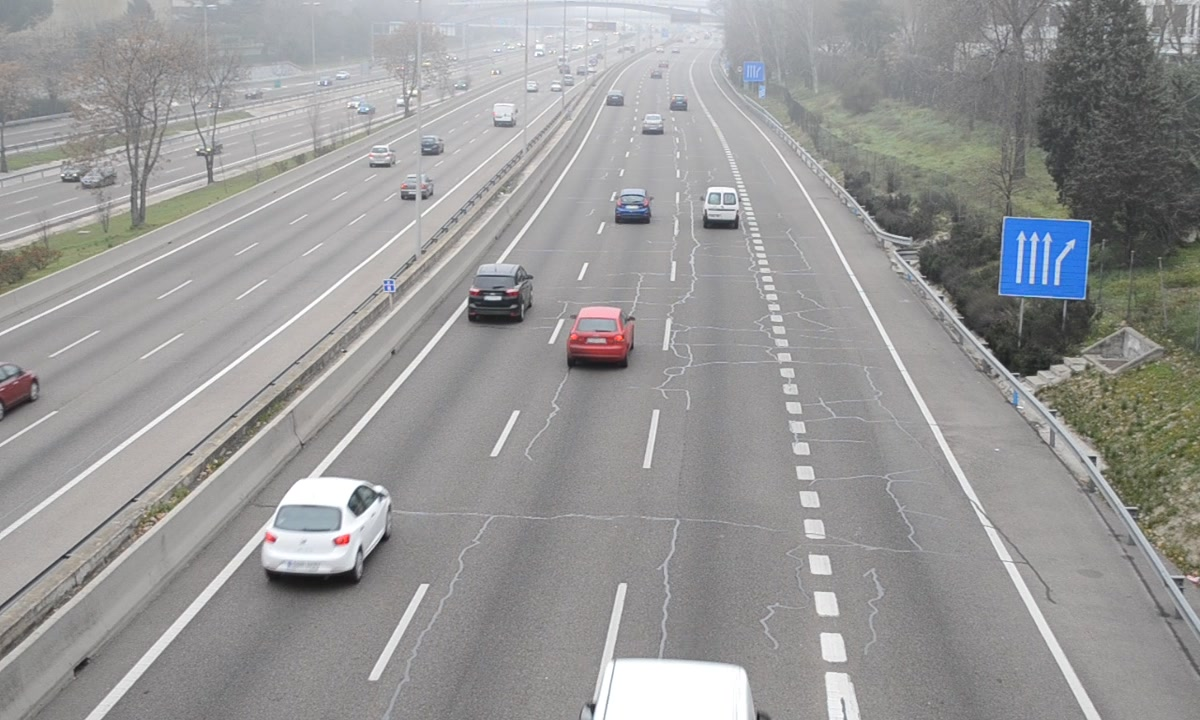car: (260, 477, 390, 577), (468, 265, 532, 321), (569, 306, 632, 362), (615, 189, 651, 224), (642, 113, 665, 135)
van: (703, 186, 741, 227)
